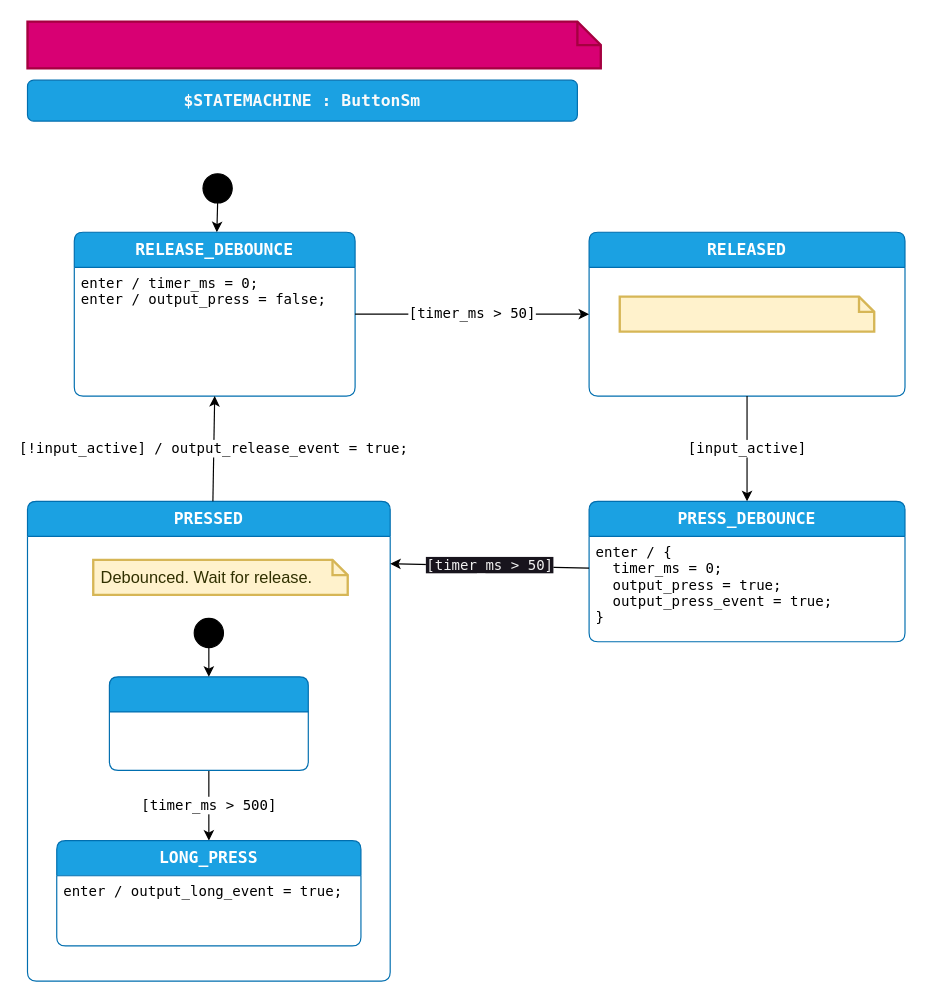
The diagram is 927 pixels wide and 1002 high, and some of its shapes have lost their labels. The centre of each missing label's shape, as x and y in pixels:
CONFIRMING_LONG: the point at 208,723
Debounced. Wait for press.: the point at 746,313
This example requires StateSmith lib version 0.12.0+: the point at 313,44
